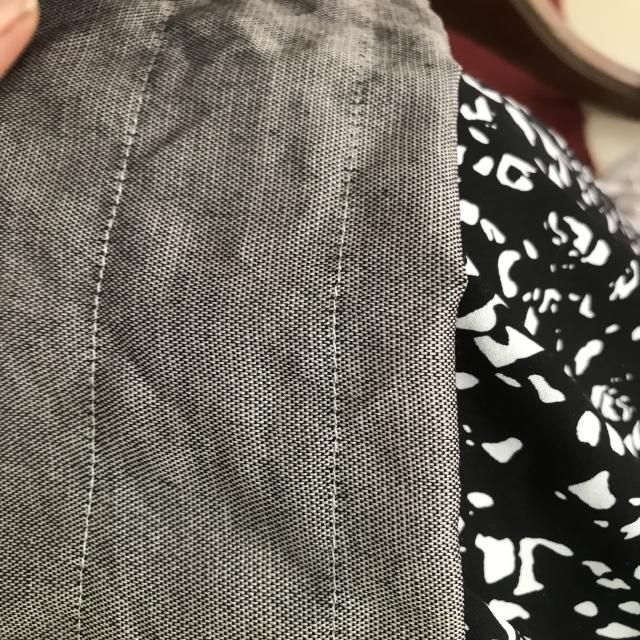good: (314, 383, 360, 557), (86, 195, 127, 337), (75, 390, 110, 510)
